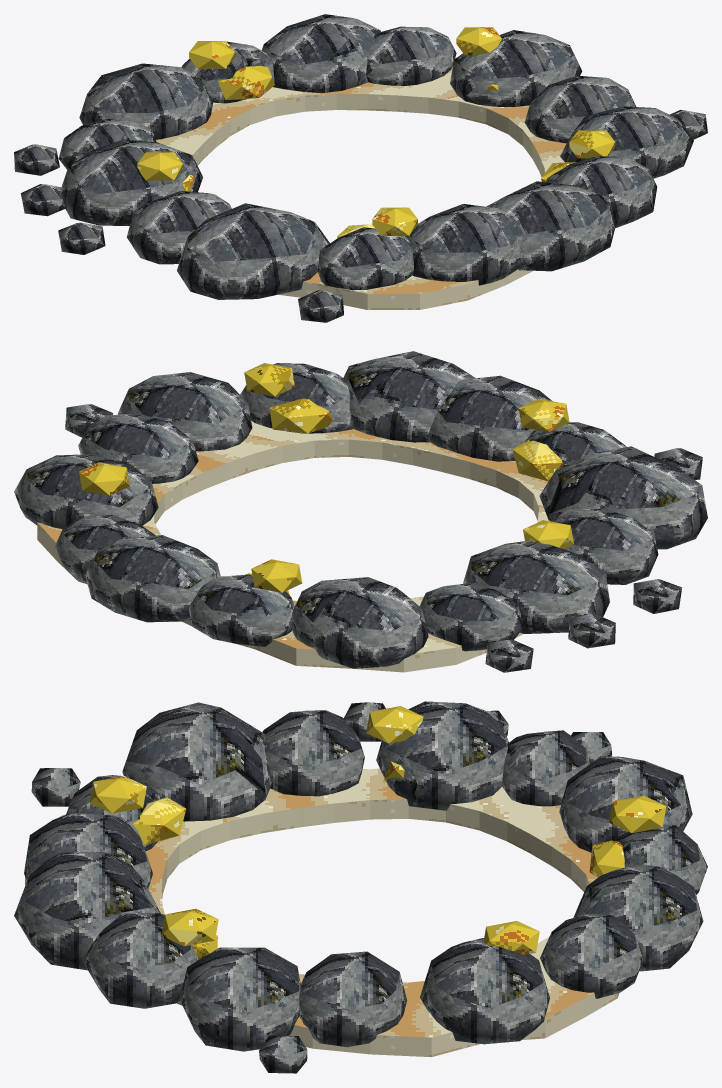
File: canela_spring.glb
The picture shows the model from 3 angles, top to bottom: view 1: azimuth 30°, elevation 25°; view 2: azimuth 150°, elevation 25°; view 3: azimuth 270°, elevation 25°; orthographic projection. The views are drawn at different scales.
Parts seen in each view (by area): view 1: Stones, Terrace, SulfurStain; view 2: Stones, Terrace, SulfurStain; view 3: Stones, Terrace, SulfurStain.
Boxes of the visible parts, x1,y1,x2,y2 form: Stones: [14, 14, 707, 322]; Terrace: [156, 57, 566, 309]; SulfurStain: [137, 27, 614, 238]; Stones: [14, 351, 707, 672]; Terrace: [37, 420, 549, 672]; SulfurStain: [79, 363, 573, 595]; Stones: [14, 701, 707, 1073]; Terrace: [25, 768, 619, 1057]; SulfurStain: [89, 706, 666, 959].
Size of the model in its own units: 7.83 by 0.8891 by 6.45.
3 materials, 3 textured.
